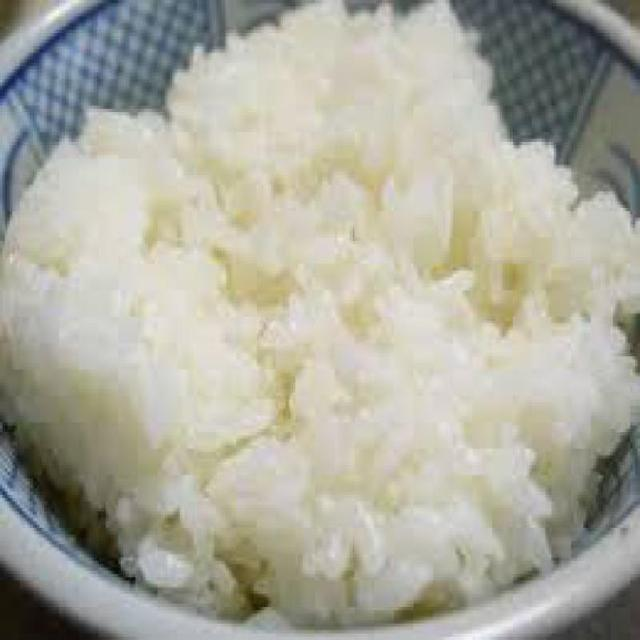nasi_putih: (2, 0, 640, 626)
